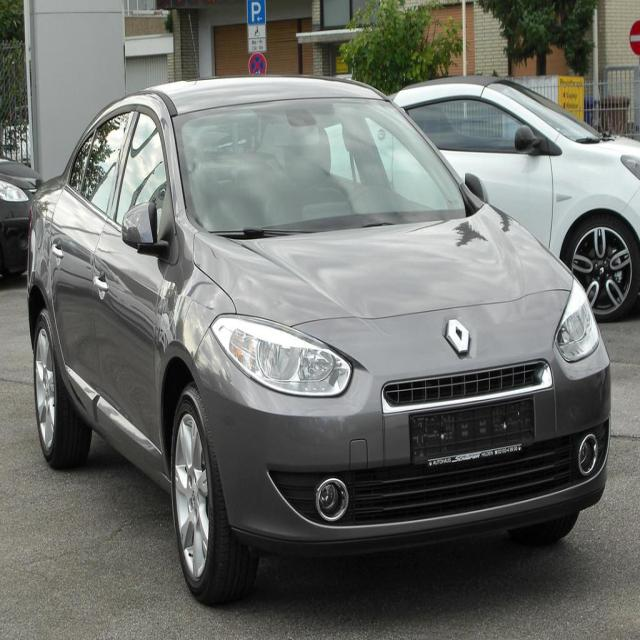car: (22, 70, 610, 608)
